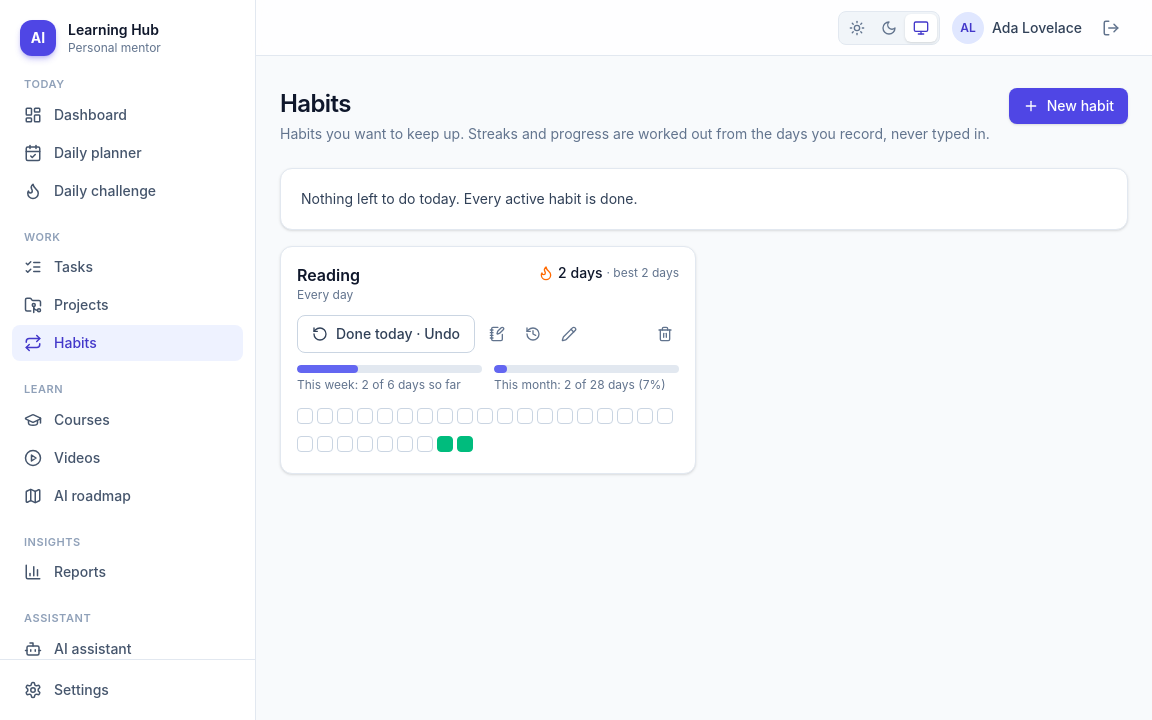
it: habits page › undoing today lowers the streak again
Check: the heading "Habits" is shown, box [280, 89, 351, 118]
Check: the element named "Reading streak" shows "2 days", box [558, 264, 602, 281]
Click the button with aria-label "Undo Reading for today": {"x": 386, "y": 334} [297, 315, 475, 353]
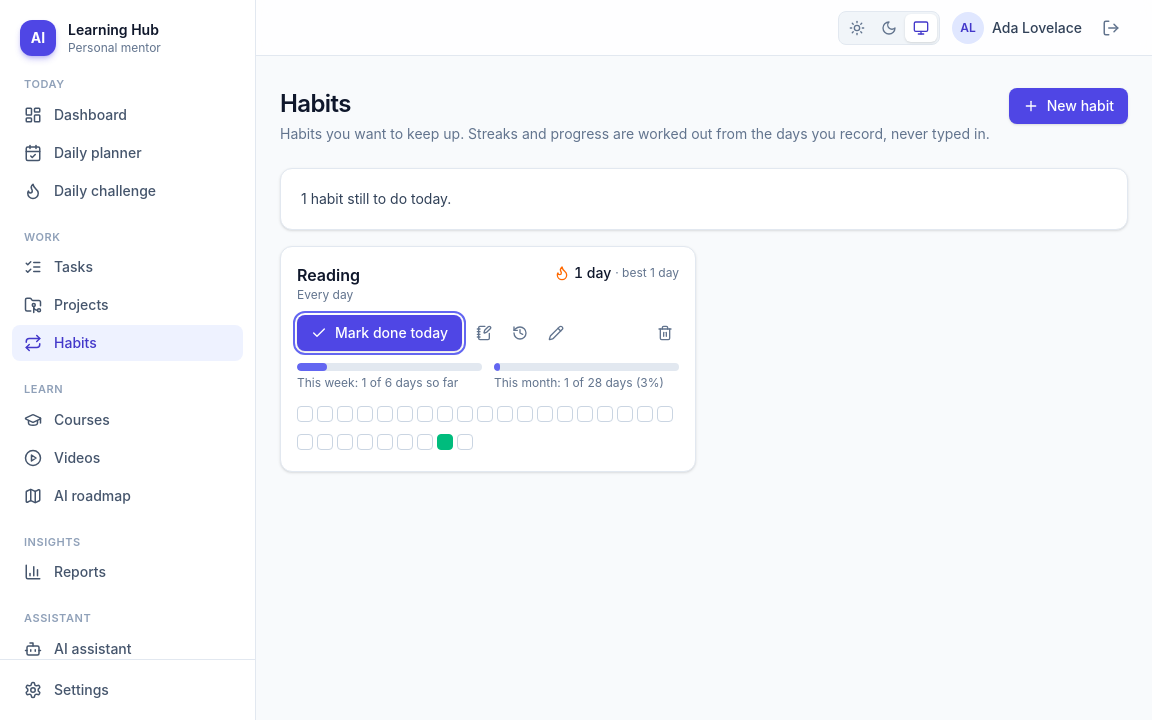
Check: the element named "Reading streak" shows "1 day", box [574, 264, 611, 281]
